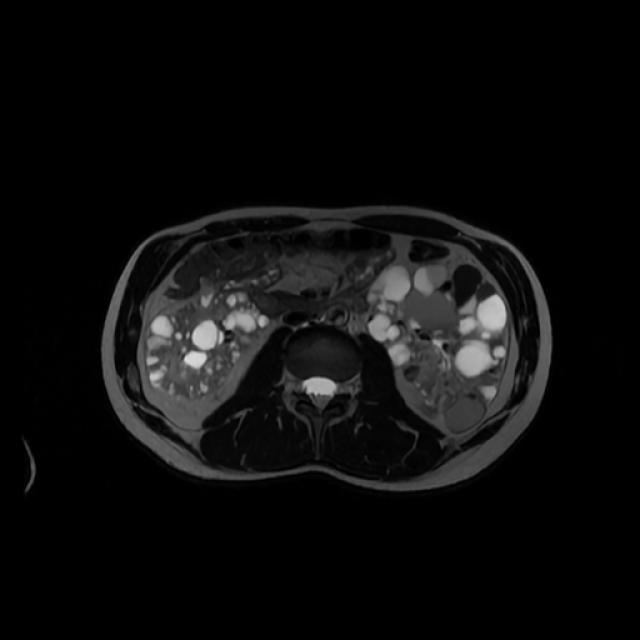sag: (143, 290, 270, 403)
sol: (366, 261, 508, 433)
